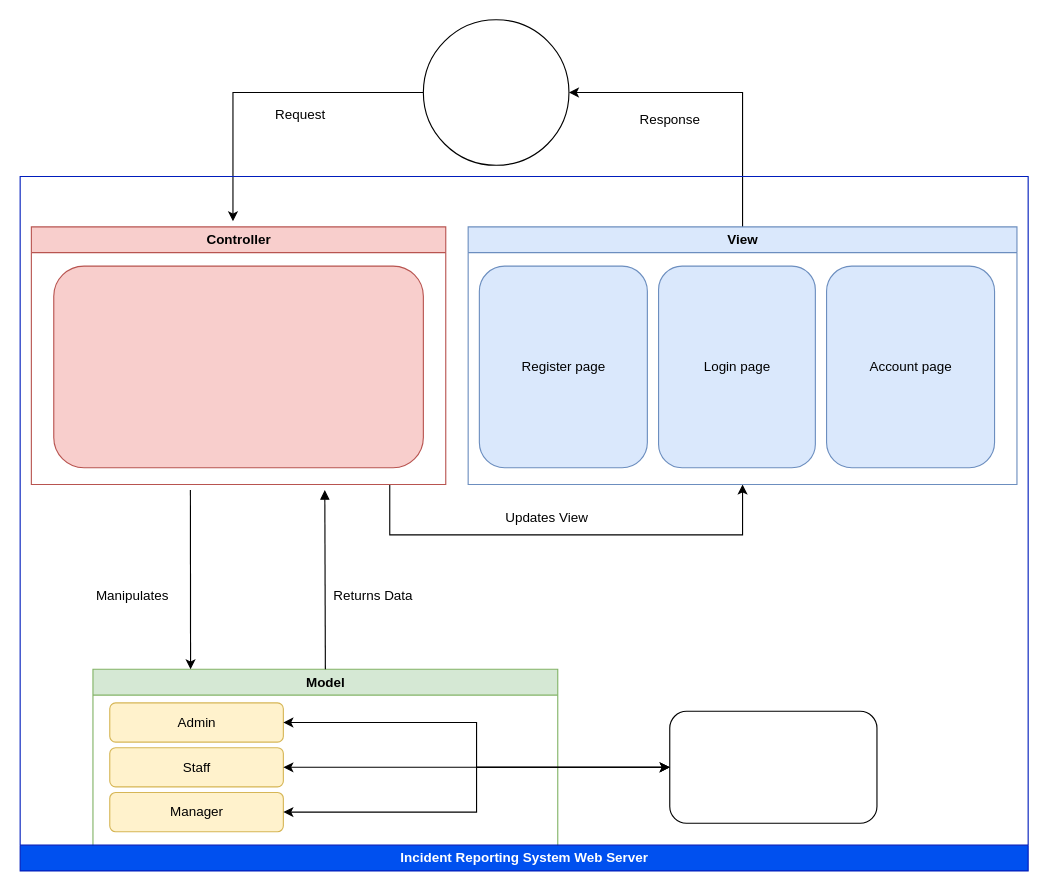
This 1047x890 diagram has some shape labels left out. Here are the shapes that lost their labels. From the top down, the centre of each, then its label:
At point 495,92: "Client".
At point 238,366: "Admin, Staff, Manager Authentication".
At point 773,766: "Mongo Database".
